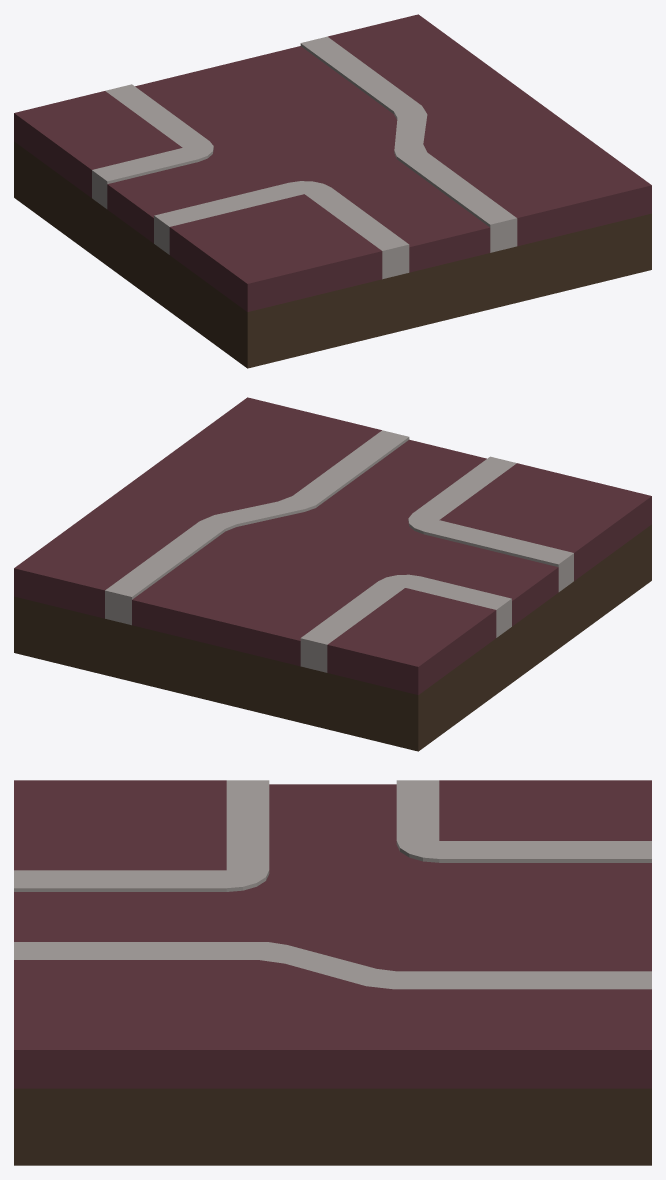
File: tile-mainroad-road-intersection-t.fbx
The picture shows the model from 3 angles, top to bottom: view 1: azimuth 30°, elevation 25°; view 2: azimuth 150°, elevation 25°; view 3: azimuth 270°, elevation 25°; orthographic projection. The views are drawn at different scales.
Parts seen in each view (by area): view 1: tile-mainroad-road-intersection-t; view 2: tile-mainroad-road-intersection-t; view 3: tile-mainroad-road-intersection-t.
Part boxes in pixels (box(x1,y1,x2,y2)): tile-mainroad-road-intersection-t: box(14, 14, 651, 368); tile-mainroad-road-intersection-t: box(14, 397, 651, 751); tile-mainroad-road-intersection-t: box(14, 780, 651, 1165).
Bounding box in the file's own units: 30 × 6 × 30.
